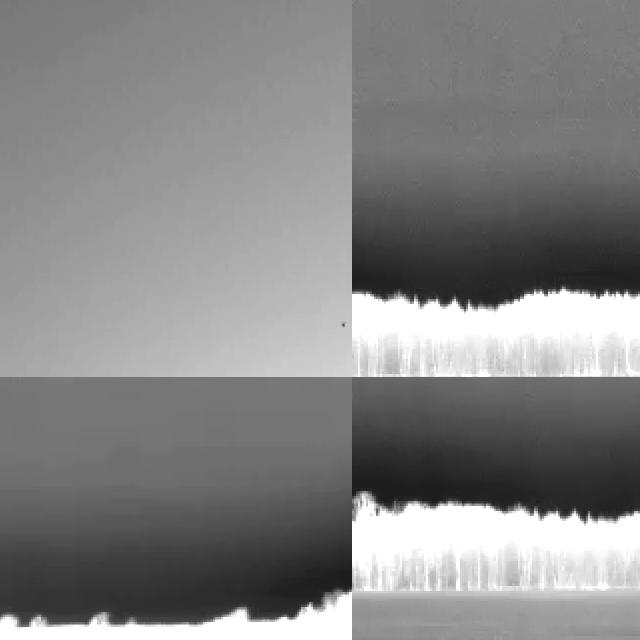drone: (339, 318, 349, 331)
